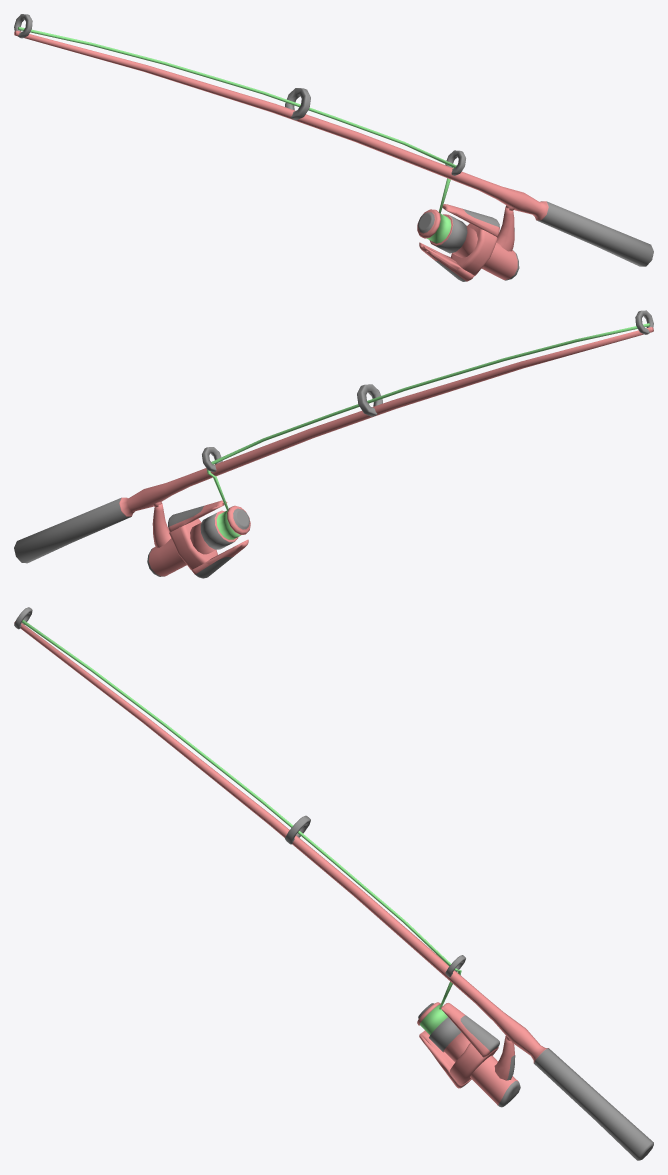
The model's file is FishingReel.fbx.
The picture shows the model from 3 angles, top to bottom: view 1: azimuth 30°, elevation 25°; view 2: azimuth 150°, elevation 25°; view 3: azimuth 330°, elevation 25°; orthographic projection.
Visible parts, largest first — view 1: fishing_reel; view 2: fishing_reel; view 3: fishing_reel.
Boxes of the visible parts, <box> form: fishing_reel: <box>14,14,653,281</box>; fishing_reel: <box>14,310,653,578</box>; fishing_reel: <box>14,607,653,1160</box>.
Size of the model in its own units: 374 by 225 by 20.71.
